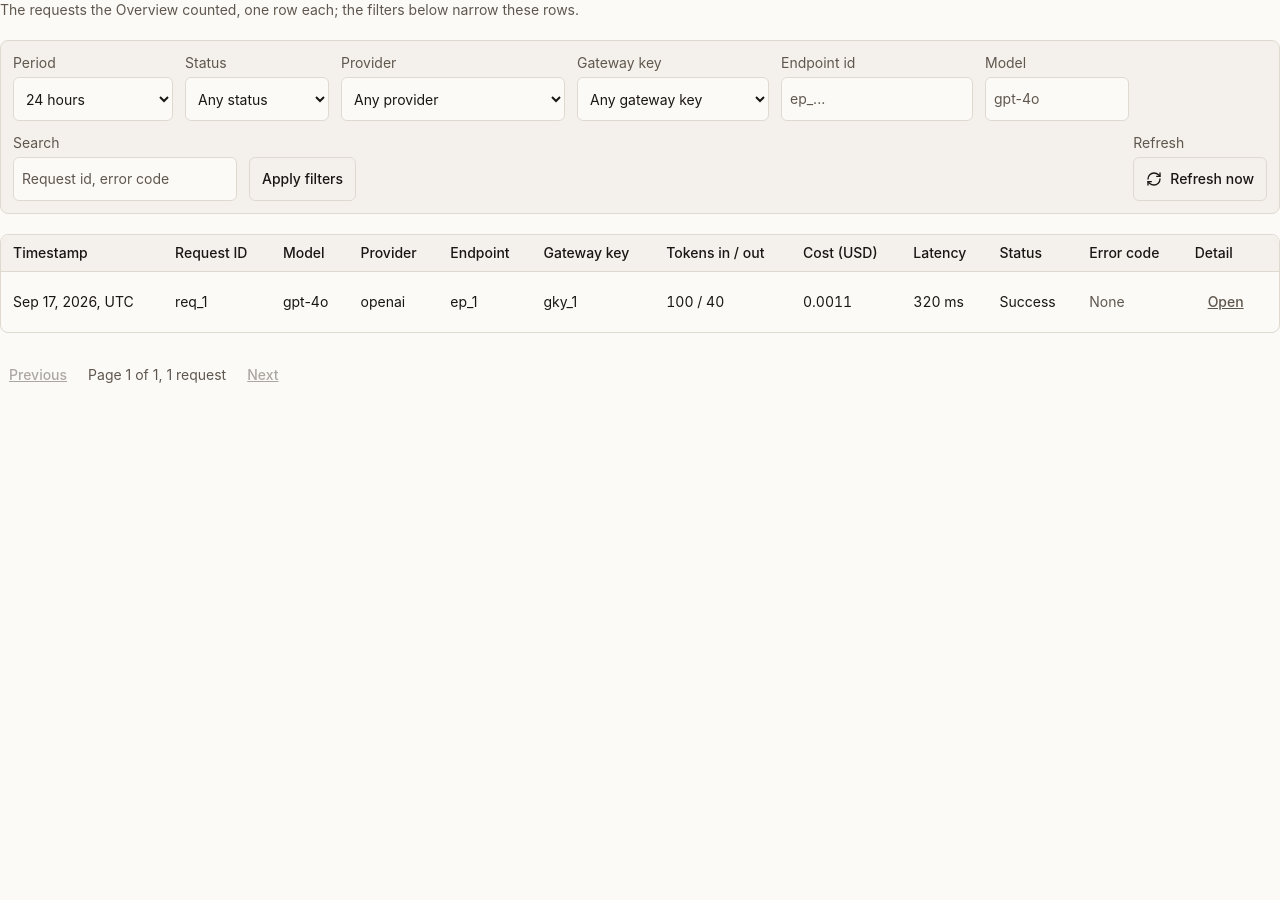
Scenario: the records table and its drawer › opens the request detail with its captured bodies
Check: the table is shown, box [1,235,1279,332]
Click the button with aria-label "Open request" at (1226, 302), box [1195,280,1257,324]
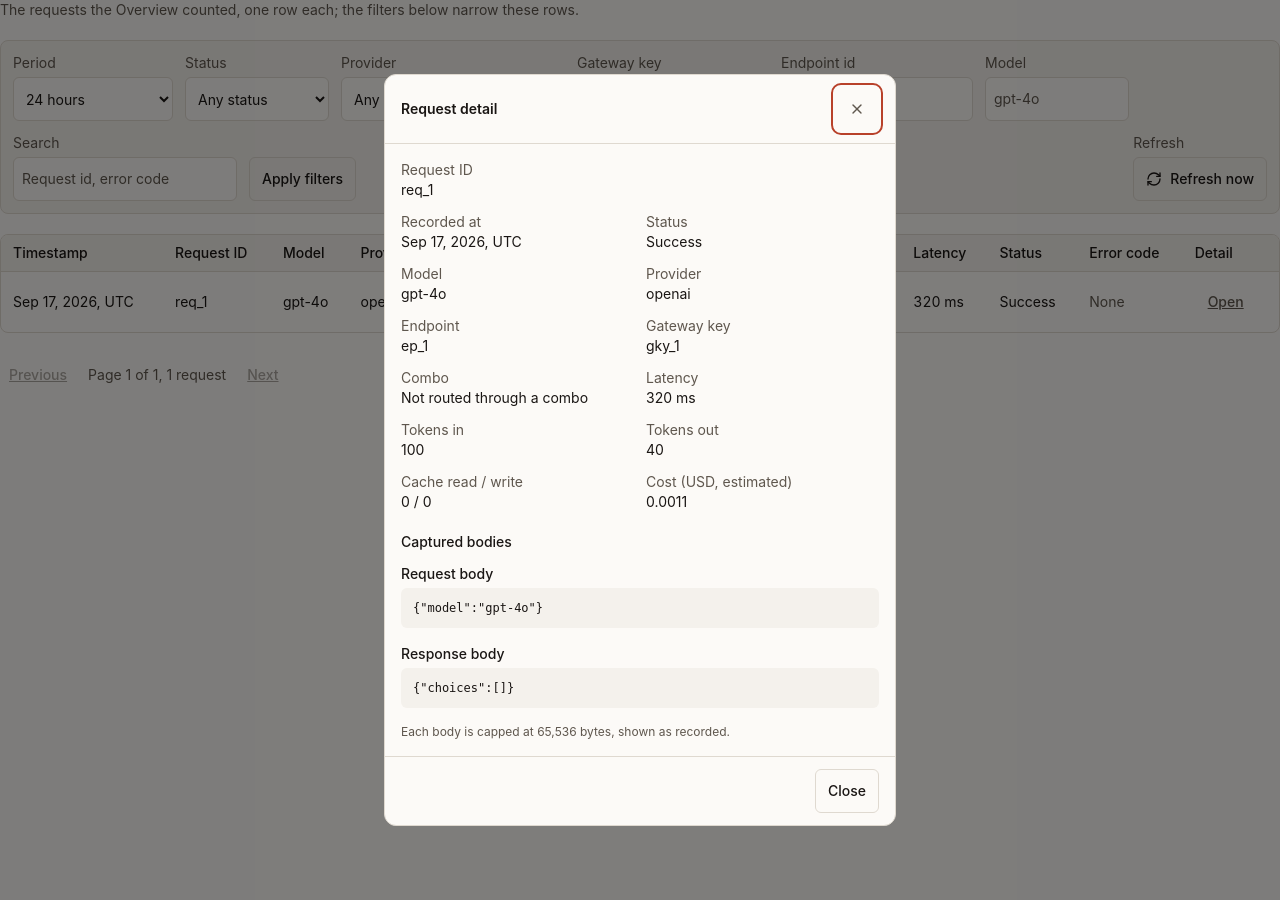
Check: the heading "Request detail" is shown, box [401,100,497,117]
Check: the text "Request ID" is shown, box [401,161,473,178]
Check: the text "req_1" is shown, box [401,181,433,198]
